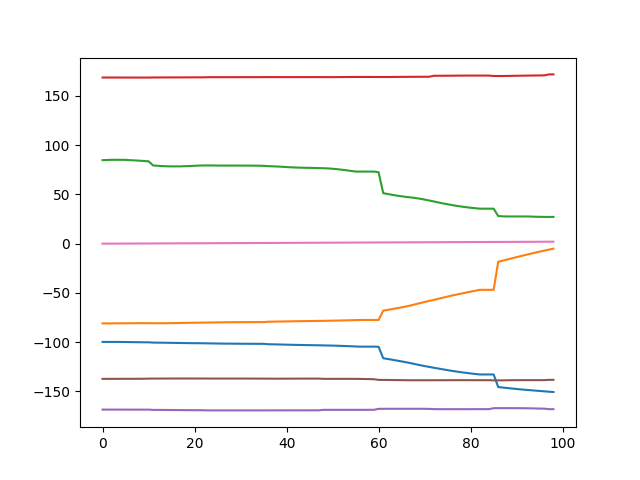Good_Bicep_Curl_Down: (1, 2, 626, 474)
